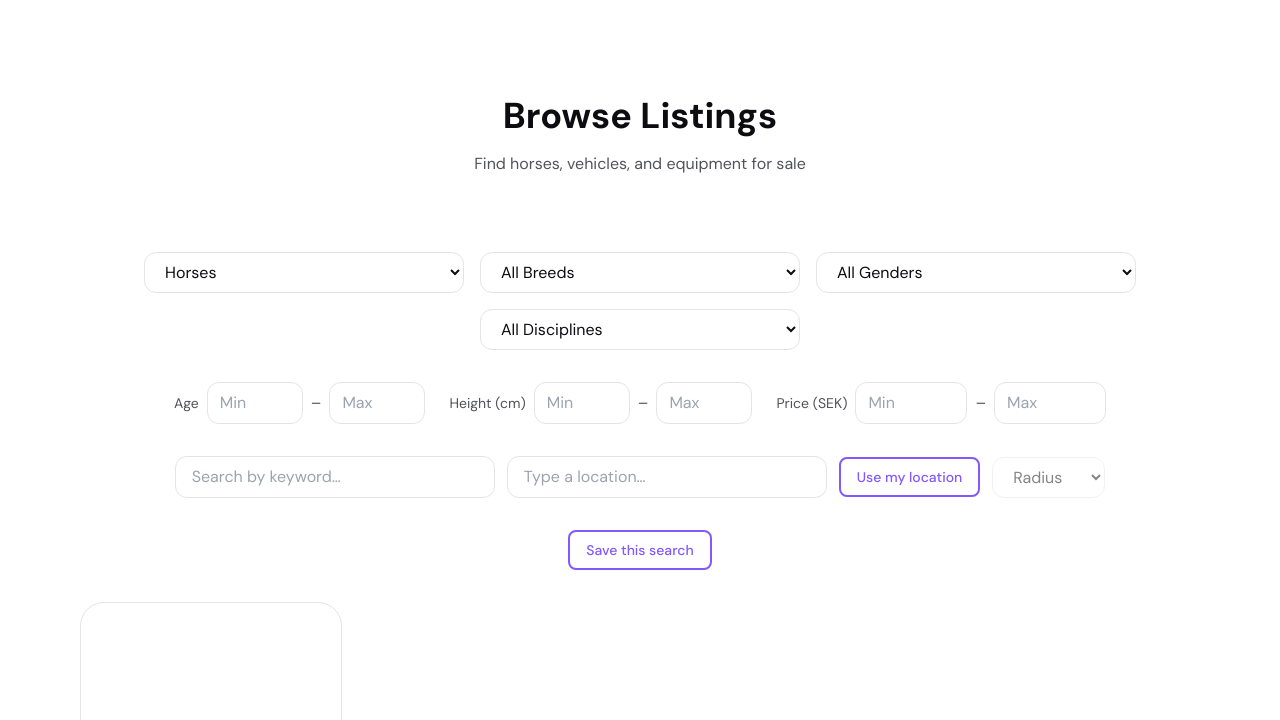
Listings › save this search › saves the applied filters under the suggested name and confirms
Click the button "Save this search".
click(640, 550)  # box [568, 530, 712, 570]
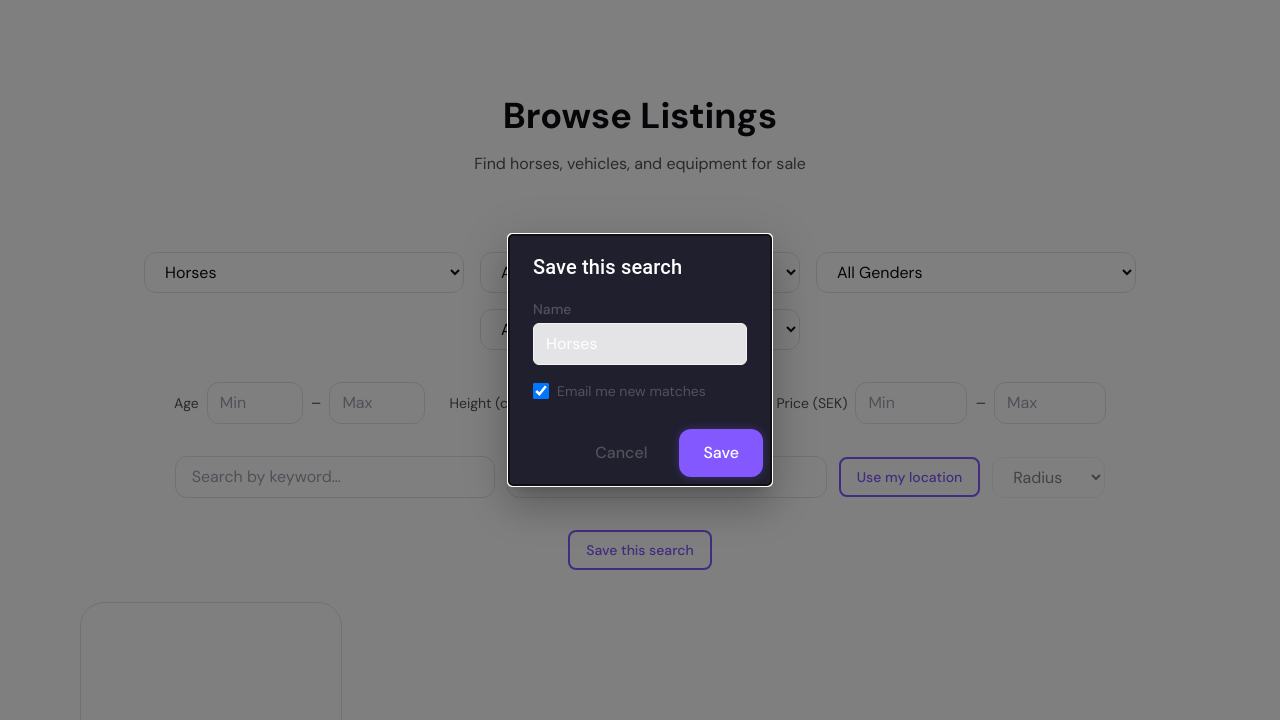
Expected: the field labelled "Name" holds "Horses", [533, 323, 747, 365]
Click the button "Save".
click(721, 453)  # box [680, 429, 763, 477]
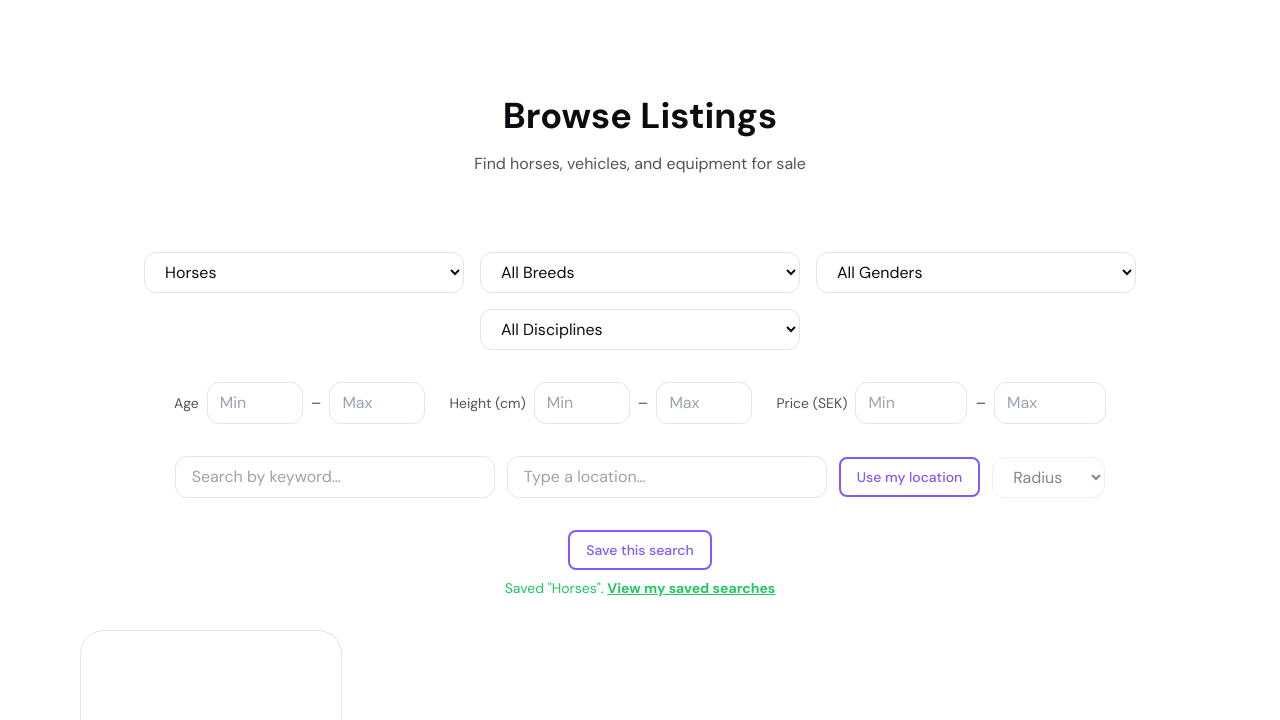
Expected: the text "Saved \"Horses\". View my saved searches" is shown, [505, 578, 775, 598]
Select "All Categories" in the dropdown named "Category" at (304, 272), box [144, 252, 464, 293]
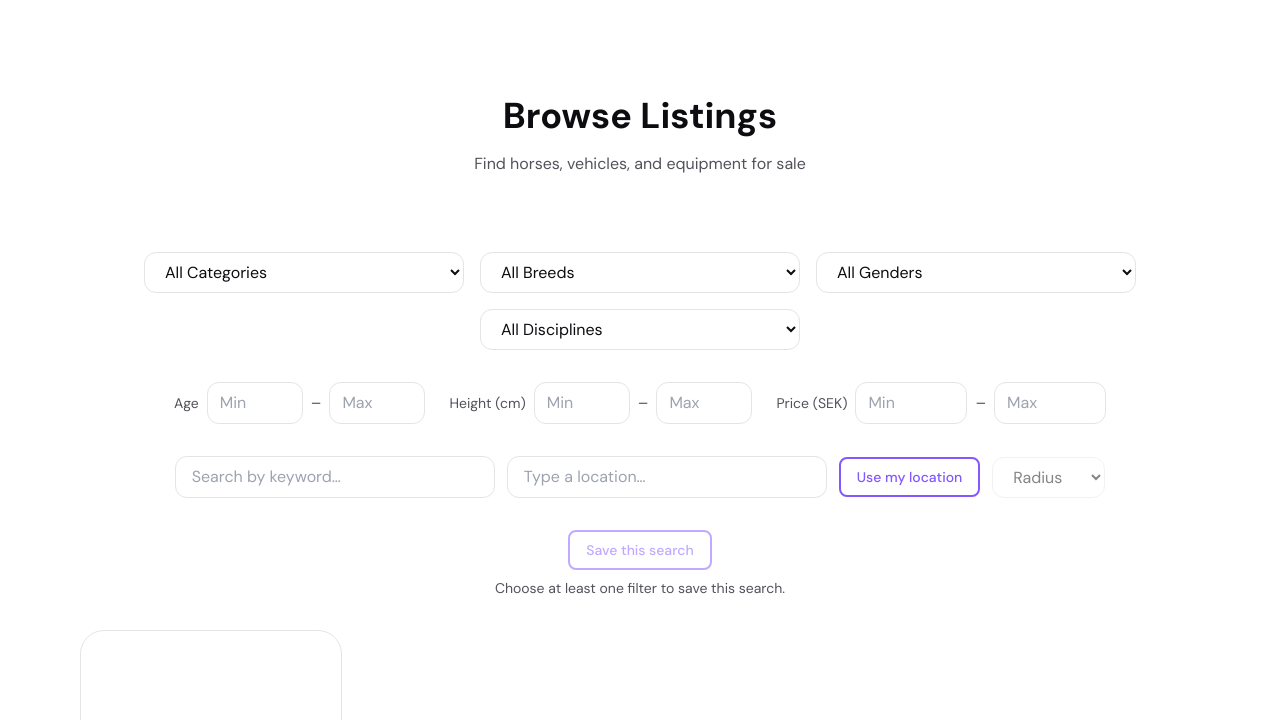
Expected: the text "Saved \"Horses\"." is gone
